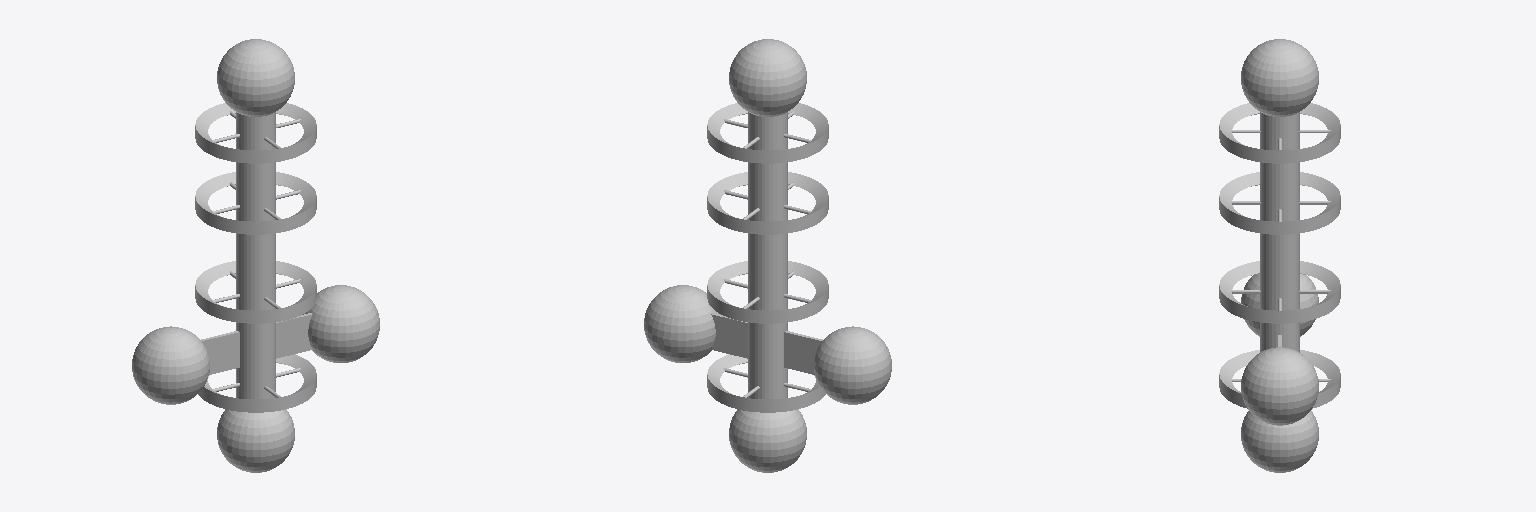
The model's file is space_station1.obj.
3 renders of one model, left to right at view 1: azimuth 30°, elevation 25°; view 2: azimuth 150°, elevation 25°; view 3: azimuth 270°, elevation 25°, orthographic.
Visible parts, largest first — view 1: Cylinder, Sphere.001, Sphere.002, Sphere.003, Sphere, Torus.001_Torus.006, Torus.002_Torus.007, Torus.004, Cube_Cube.001, Torus.000_Torus.005; view 2: Cylinder, Sphere.001, Sphere.002, Sphere.003, Sphere, Torus.001_Torus.006, Torus.002_Torus.007, Torus.004, Cube_Cube.001, Torus.000_Torus.005; view 3: Cylinder, Sphere.001, Sphere.003, Sphere, Torus.001_Torus.006, Torus.002_Torus.007, Torus.004, Torus.000_Torus.005, Sphere.002.
Boxes of the visible parts, <box> form: Cylinder: <box>236,112,275,398</box>; Sphere.001: <box>217,39,294,116</box>; Sphere.002: <box>132,326,209,404</box>; Sphere.003: <box>303,285,379,362</box>; Sphere: <box>217,409,294,472</box>; Torus.001_Torus.006: <box>195,261,316,323</box>; Torus.002_Torus.007: <box>195,172,316,234</box>; Torus.004: <box>195,103,316,163</box>; Cube_Cube.001: <box>201,313,312,374</box>; Torus.000_Torus.005: <box>198,354,316,412</box>; Cylinder: <box>748,112,787,398</box>; Sphere.001: <box>729,39,806,116</box>; Sphere.002: <box>814,326,891,404</box>; Sphere.003: <box>644,285,720,362</box>; Sphere: <box>729,409,806,472</box>; Torus.001_Torus.006: <box>707,261,828,323</box>; Torus.002_Torus.007: <box>707,172,828,234</box>; Torus.004: <box>707,103,828,163</box>; Cube_Cube.001: <box>711,313,822,374</box>; Torus.000_Torus.005: <box>707,354,825,412</box>; Cylinder: <box>1260,112,1299,352</box>; Sphere.001: <box>1241,39,1318,116</box>; Sphere.003: <box>1241,347,1318,425</box>; Sphere: <box>1241,411,1318,472</box>; Torus.001_Torus.006: <box>1219,261,1340,323</box>; Torus.002_Torus.007: <box>1219,172,1340,234</box>; Torus.004: <box>1219,103,1340,163</box>; Torus.000_Torus.005: <box>1219,350,1340,408</box>; Sphere.002: <box>1241,274,1318,336</box>.
Size of the model in its own units: 14 by 24 by 6.17.